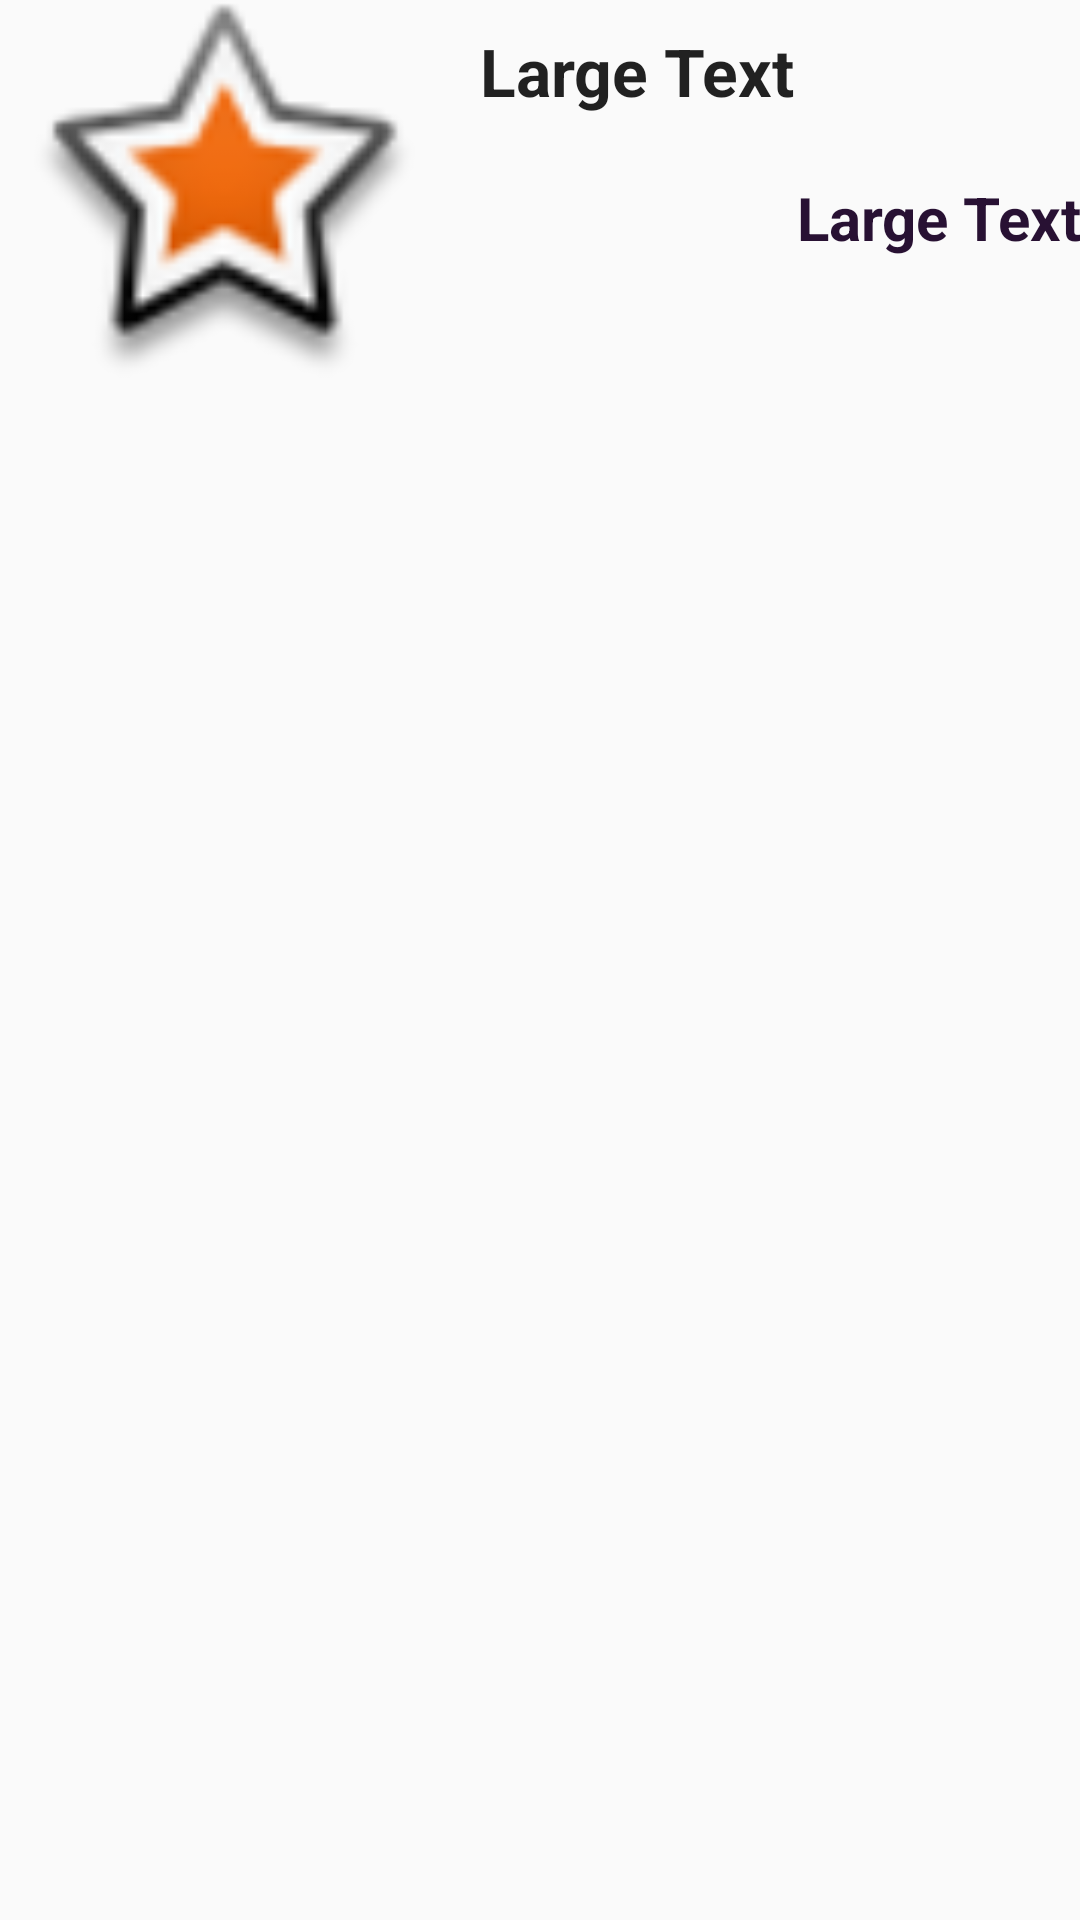

Named icons in this screenshot (1080w x 1920h) and their centers, (x,y):
star on: (225,181)
